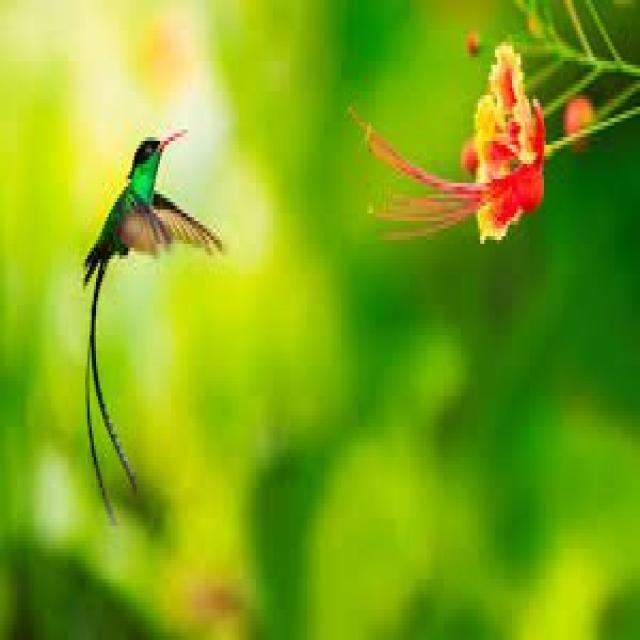Humming Bird: (76, 119, 220, 518)
